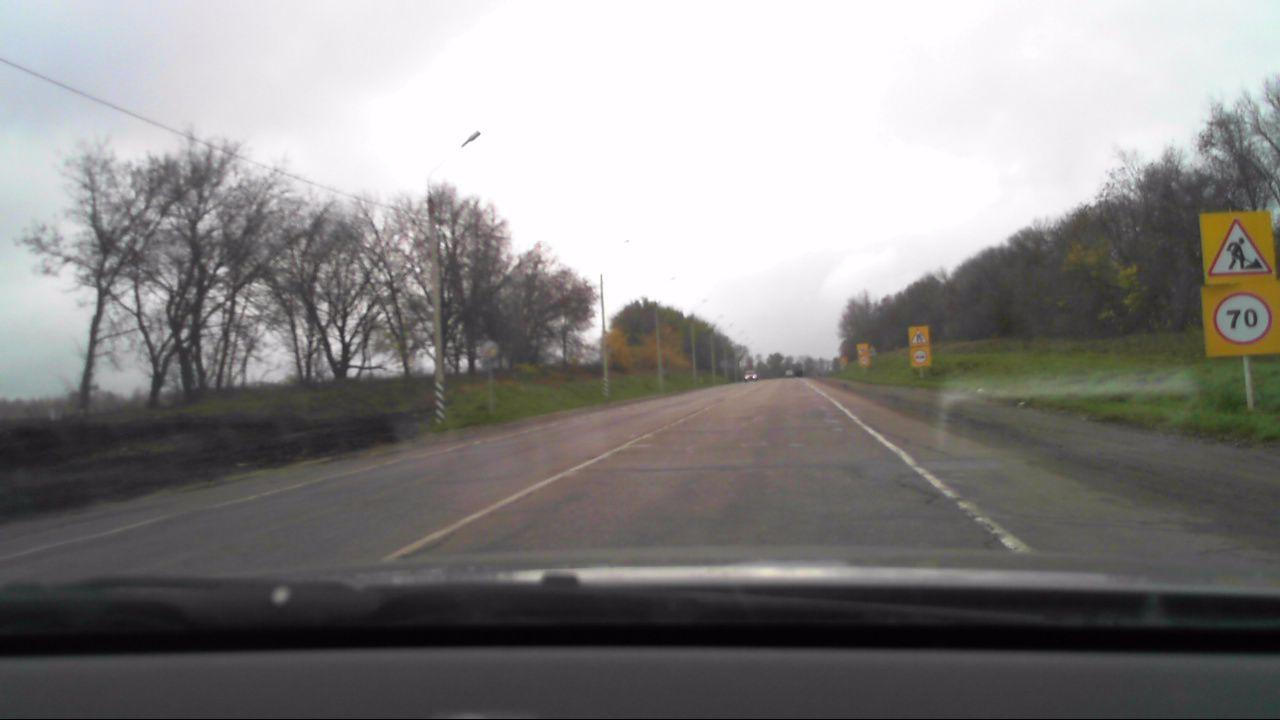1_20_2: (909, 326, 928, 345)
1_25: (1205, 218, 1275, 277)
3_20: (912, 350, 928, 363)
3_24: (1211, 292, 1275, 344)
